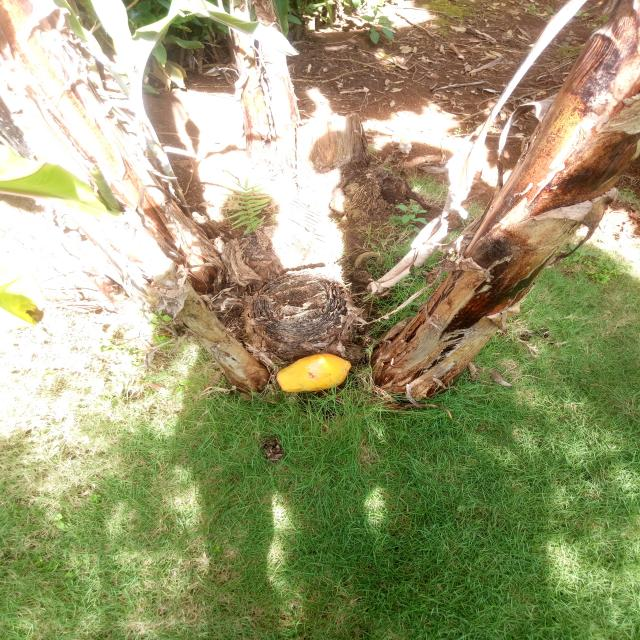Pepaya rippen: (272, 354, 352, 401)
